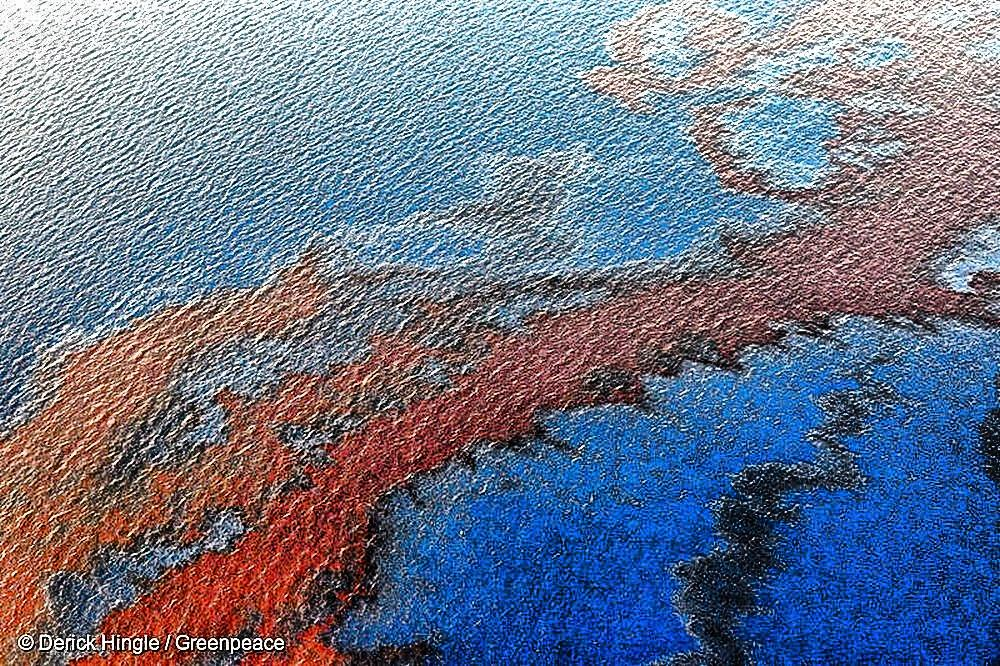truecolor: (103, 3, 1000, 664), (0, 279, 308, 648)
